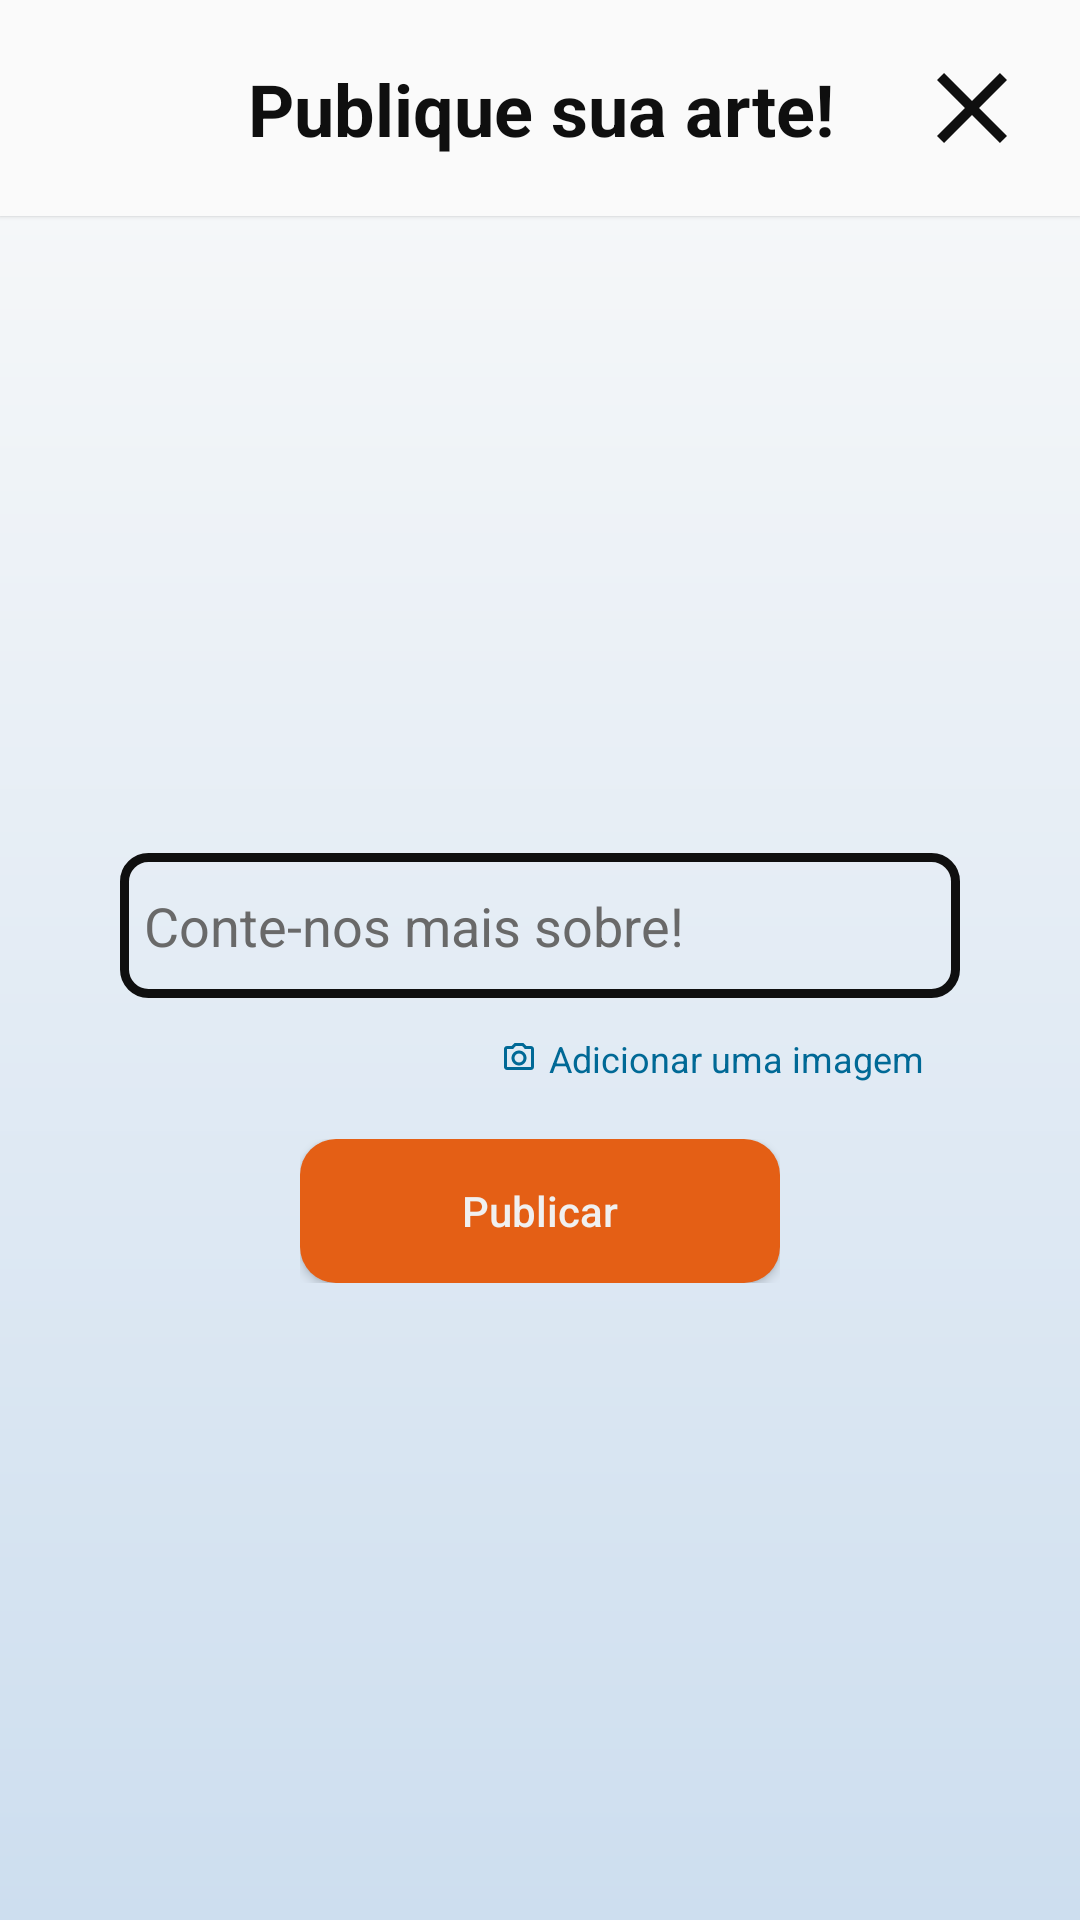

Icons on this 1080 x 1920 Android screen, each with its box as {"x1": x1, "y1": y1, "x2": x2, "y2": y2}:
cancel: {"x1": 937, "y1": 73, "x2": 1007, "y2": 143}
